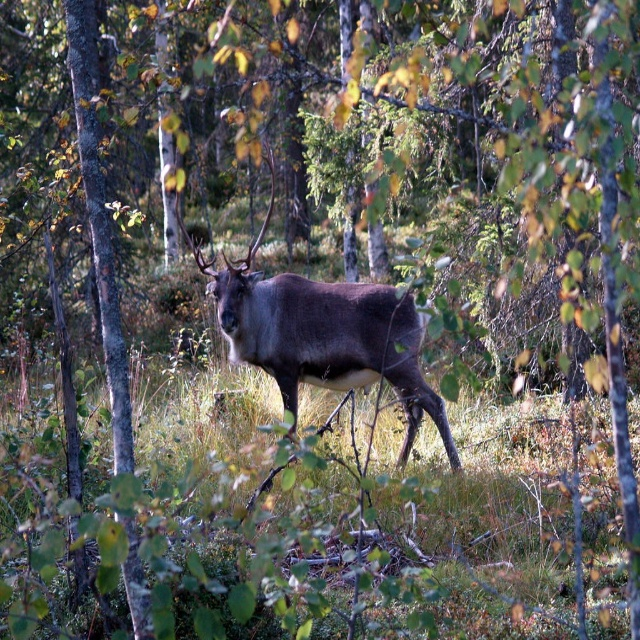Deer: (173, 134, 462, 478)
